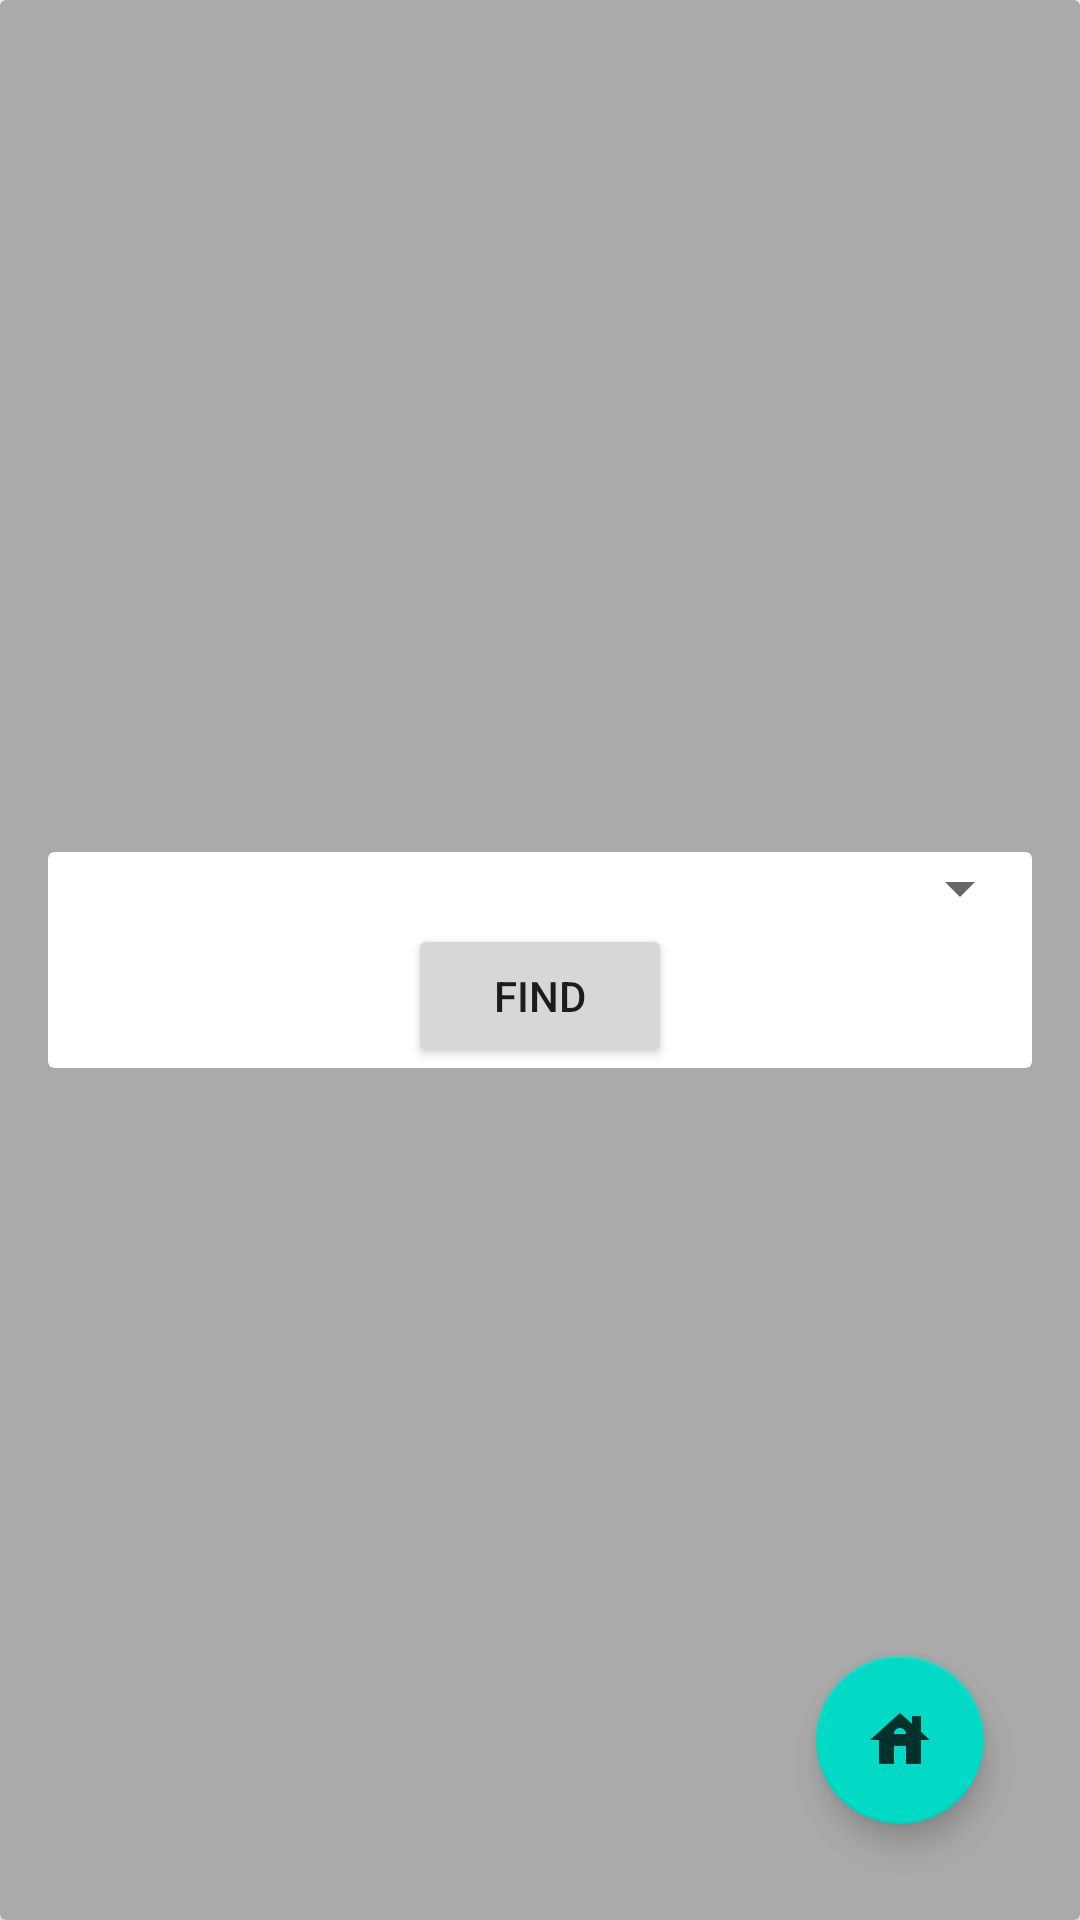

Icons on this 1080 × 1920 Android screen, each with the point to tap as (x,y):
house: (900,1740)
